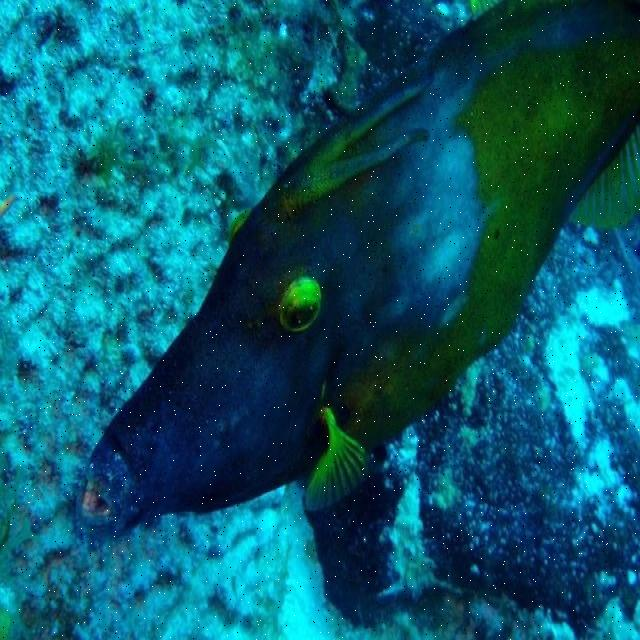fish: (82, 0, 639, 536)
